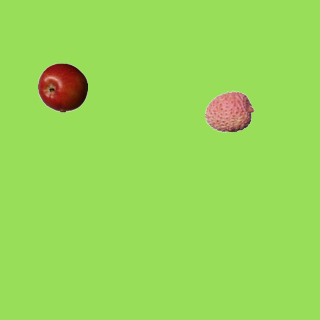Apple Braeburn: (37, 62, 87, 112)
Lychee: (204, 86, 254, 136)
